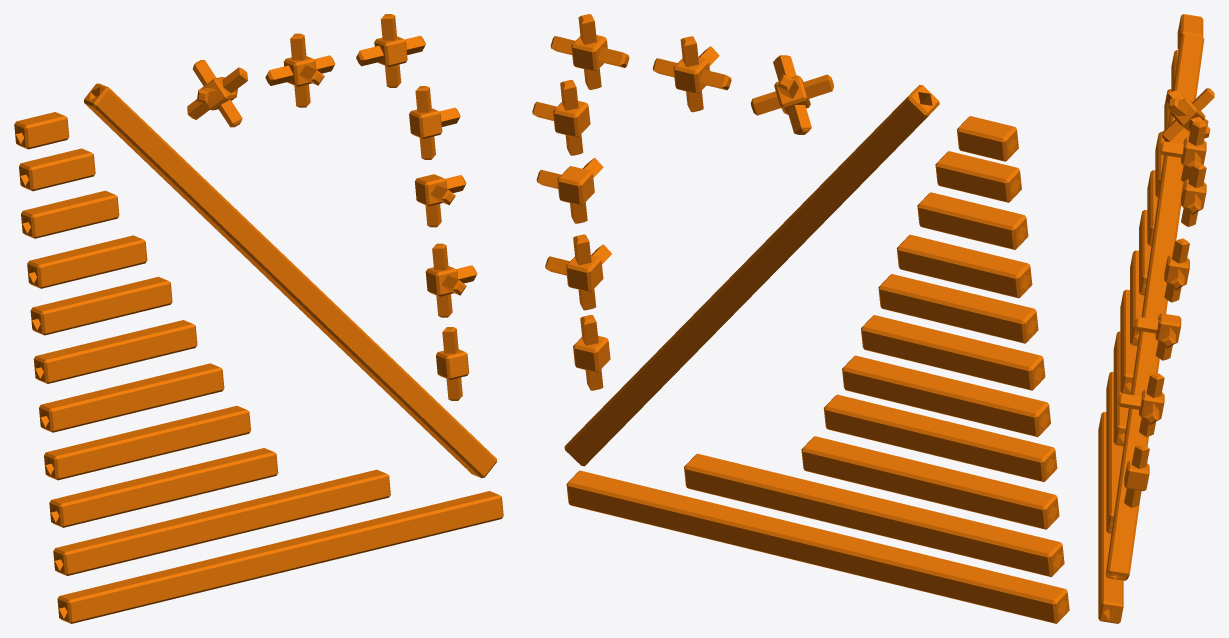
File: ModularFrame.glb
3 views of the same model, side by side, from view 1: azimuth 30°, elevation 25°; view 2: azimuth 150°, elevation 25°; view 3: azimuth 270°, elevation 25° (orthographic). The views are drawn at different scales.
Parts seen in each view (by area): view 1: ElementsShowcase; view 2: ElementsShowcase; view 3: ElementsShowcase.
Part boxes in pixels (x1,y1,x2,y2): ElementsShowcase: (14,14,503,623); ElementsShowcase: (532,14,1069,623); ElementsShowcase: (1098,14,1214,623).
Bounding box in the file's own units: 201 × 213 × 51.42.
